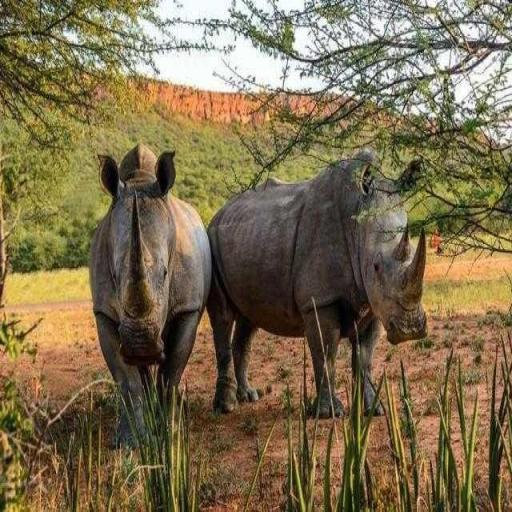Rhino: (205, 145, 428, 420), (88, 142, 212, 450)
